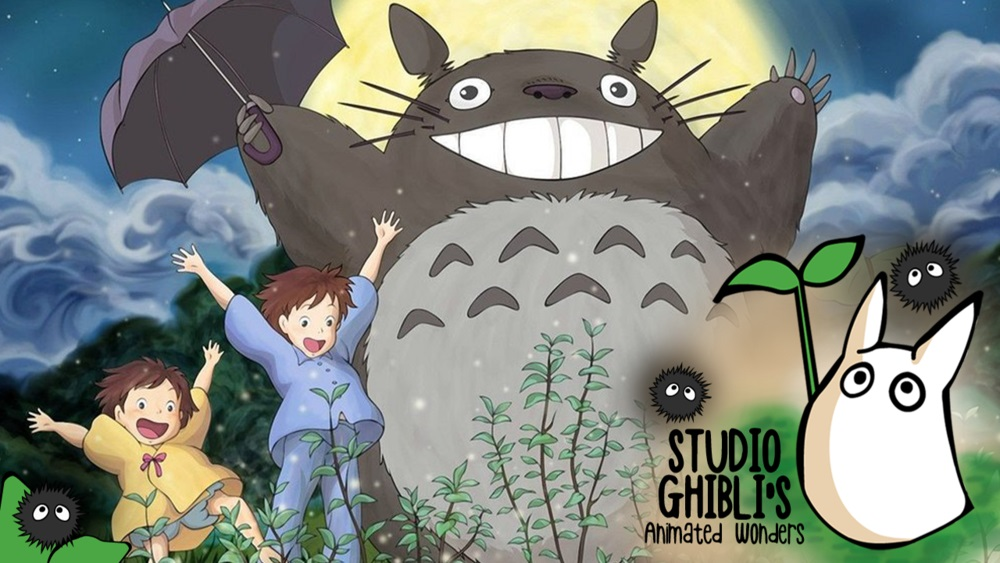Totoro: (230, 2, 843, 563)
